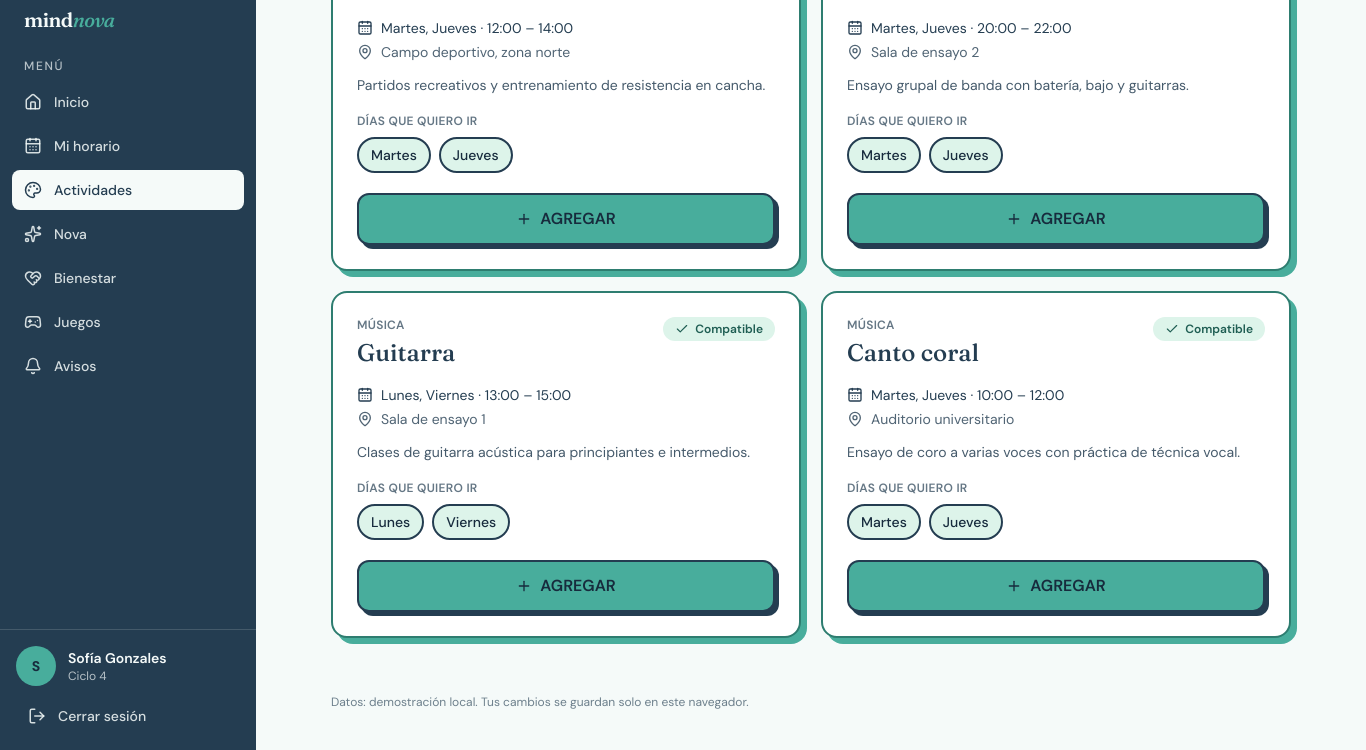
Test: Explorar actividades · días elegidos › agrega la guitarra solo los lunes cuando se desmarca el viernes
(page scrolled)
Click the button "Viernes": x=471, y=522 [432,504,510,540]
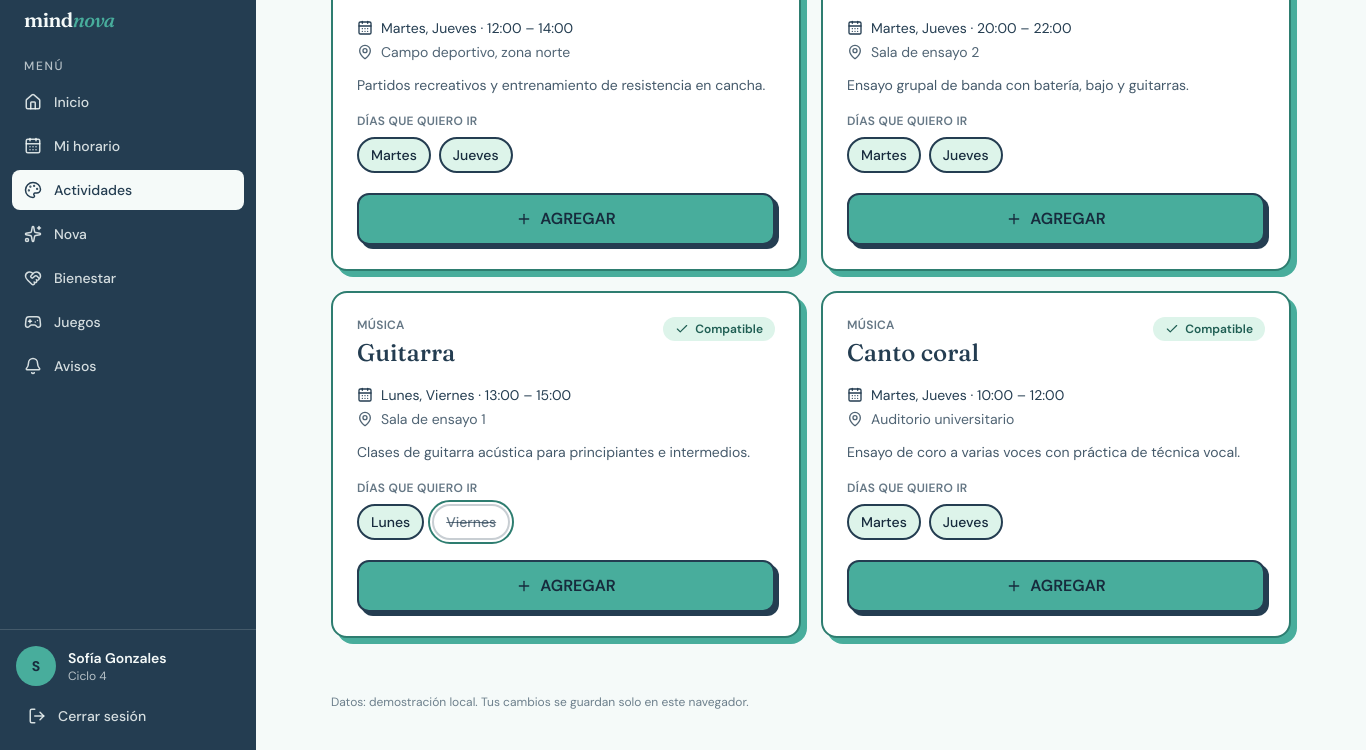
Check: the button "Viernes" is not pressed, box [432,504,510,540]
Click the button "AGREGAR" below "Sala de ensayo 1": x=566, y=586 [357,560,775,612]
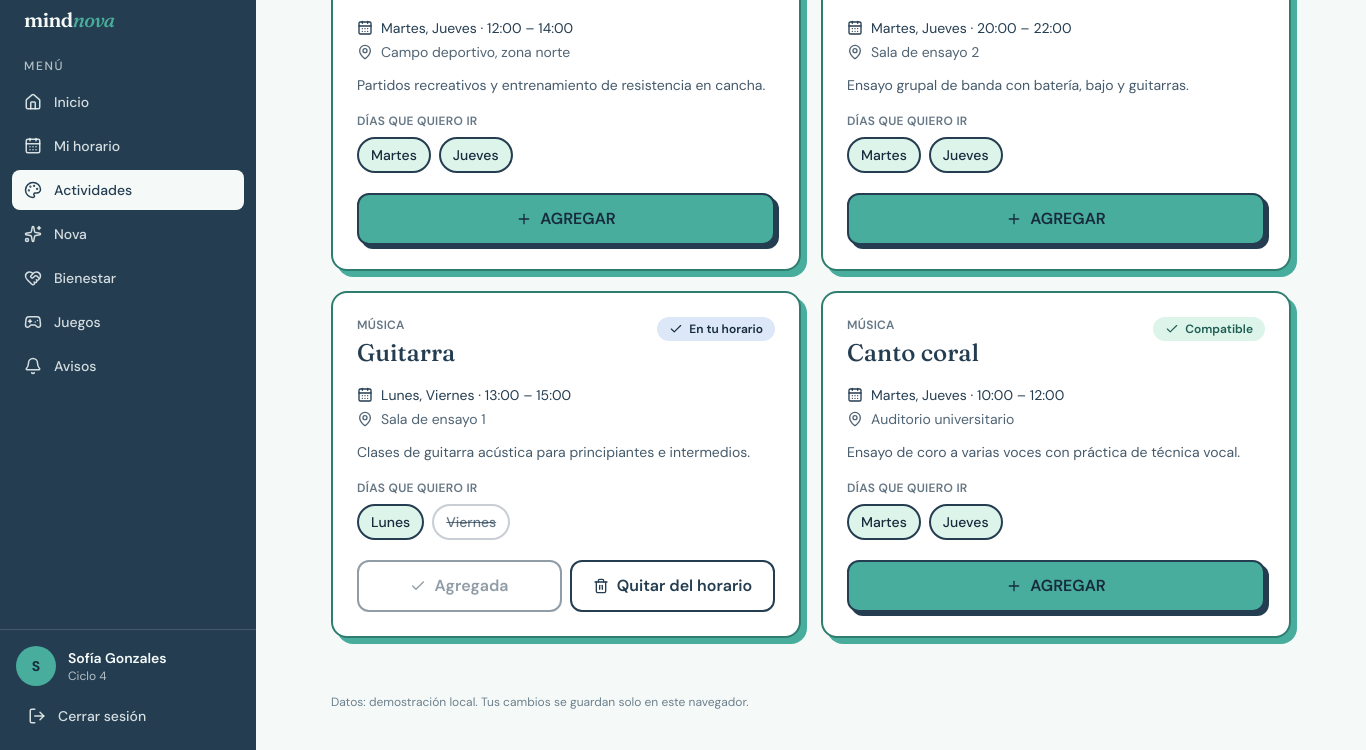
Check: the button "Agregada" is disabled, box [357,560,562,612]
